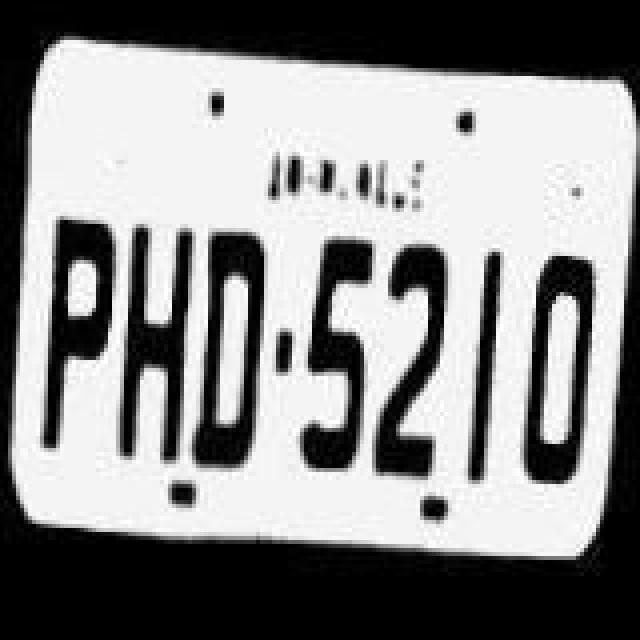1: (462, 250, 514, 486)
2: (372, 232, 452, 488)
5: (300, 234, 380, 474)
D: (190, 226, 274, 462)
H: (116, 222, 196, 462)
O: (516, 248, 604, 488)
P: (40, 218, 128, 446)
